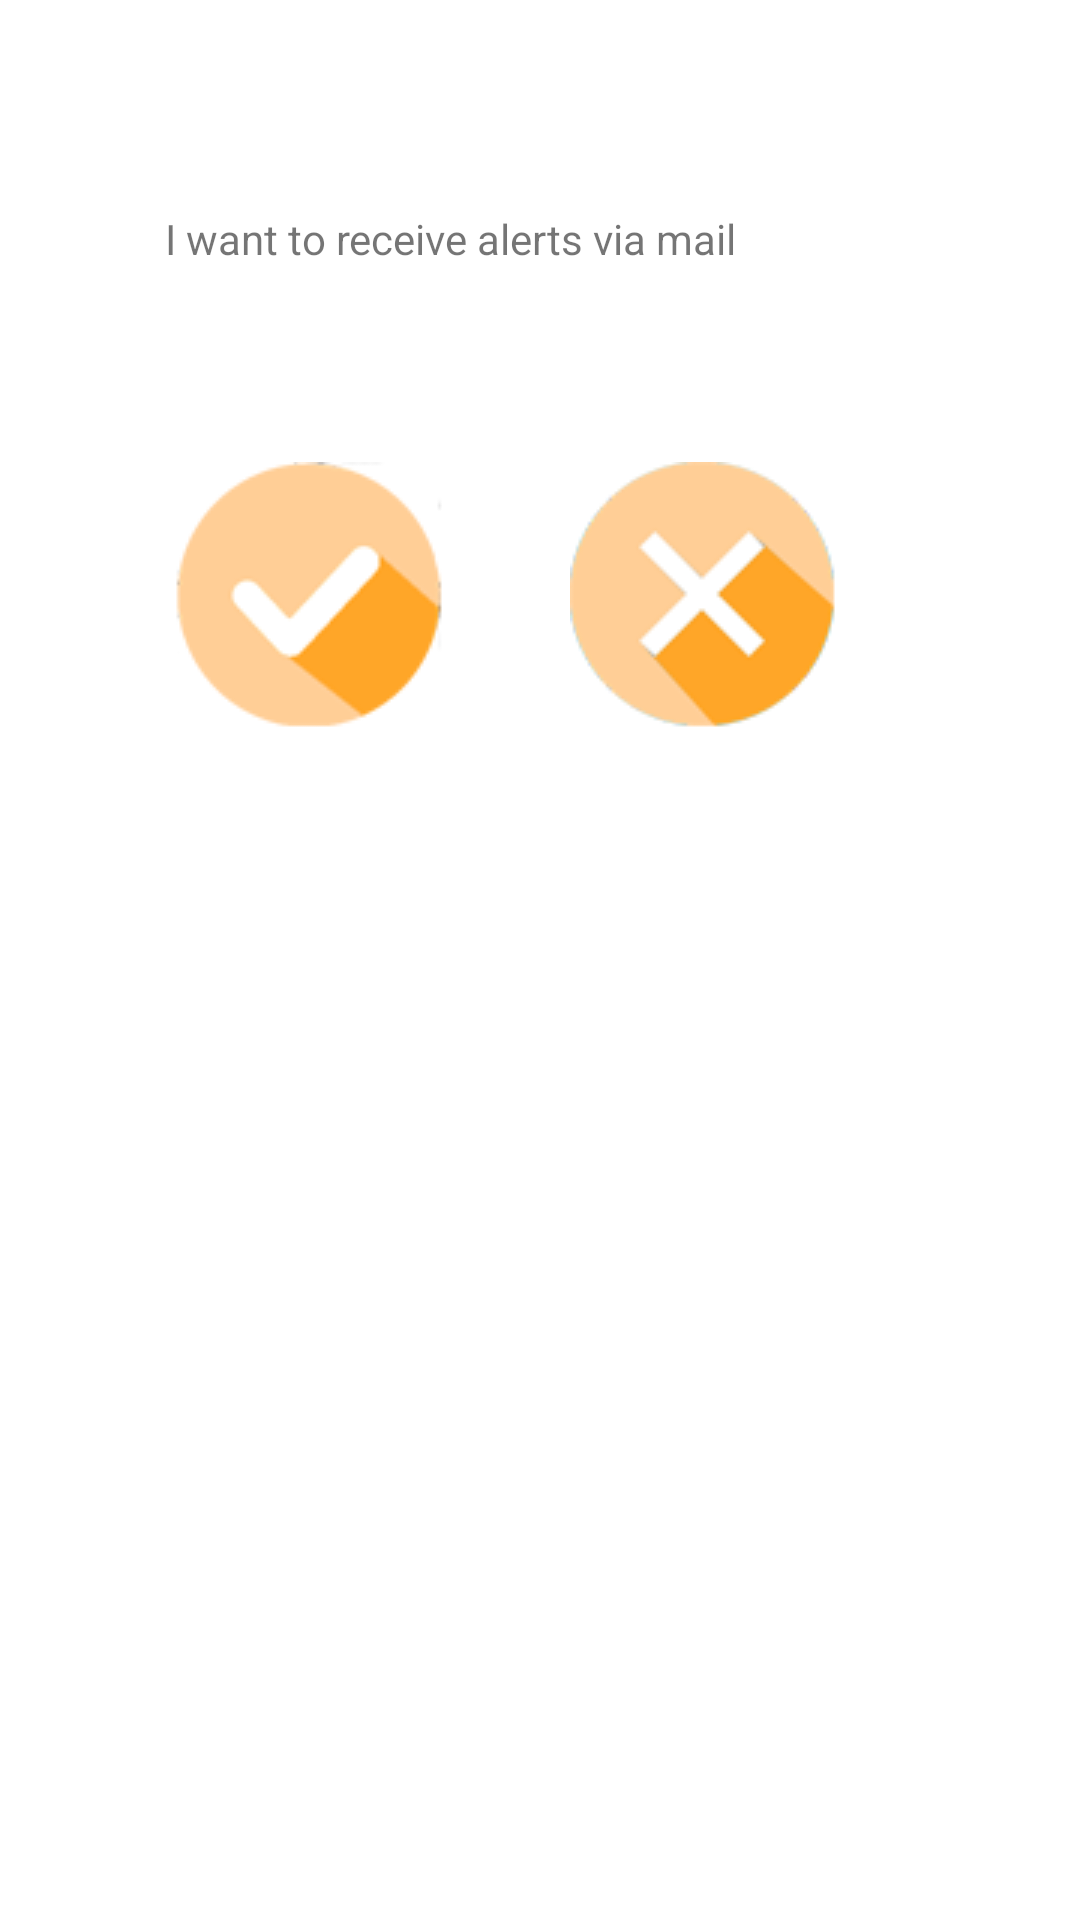

Named icons in this screenshot (1080x1920) and their centers, (x,y):
yes: (309,594)
